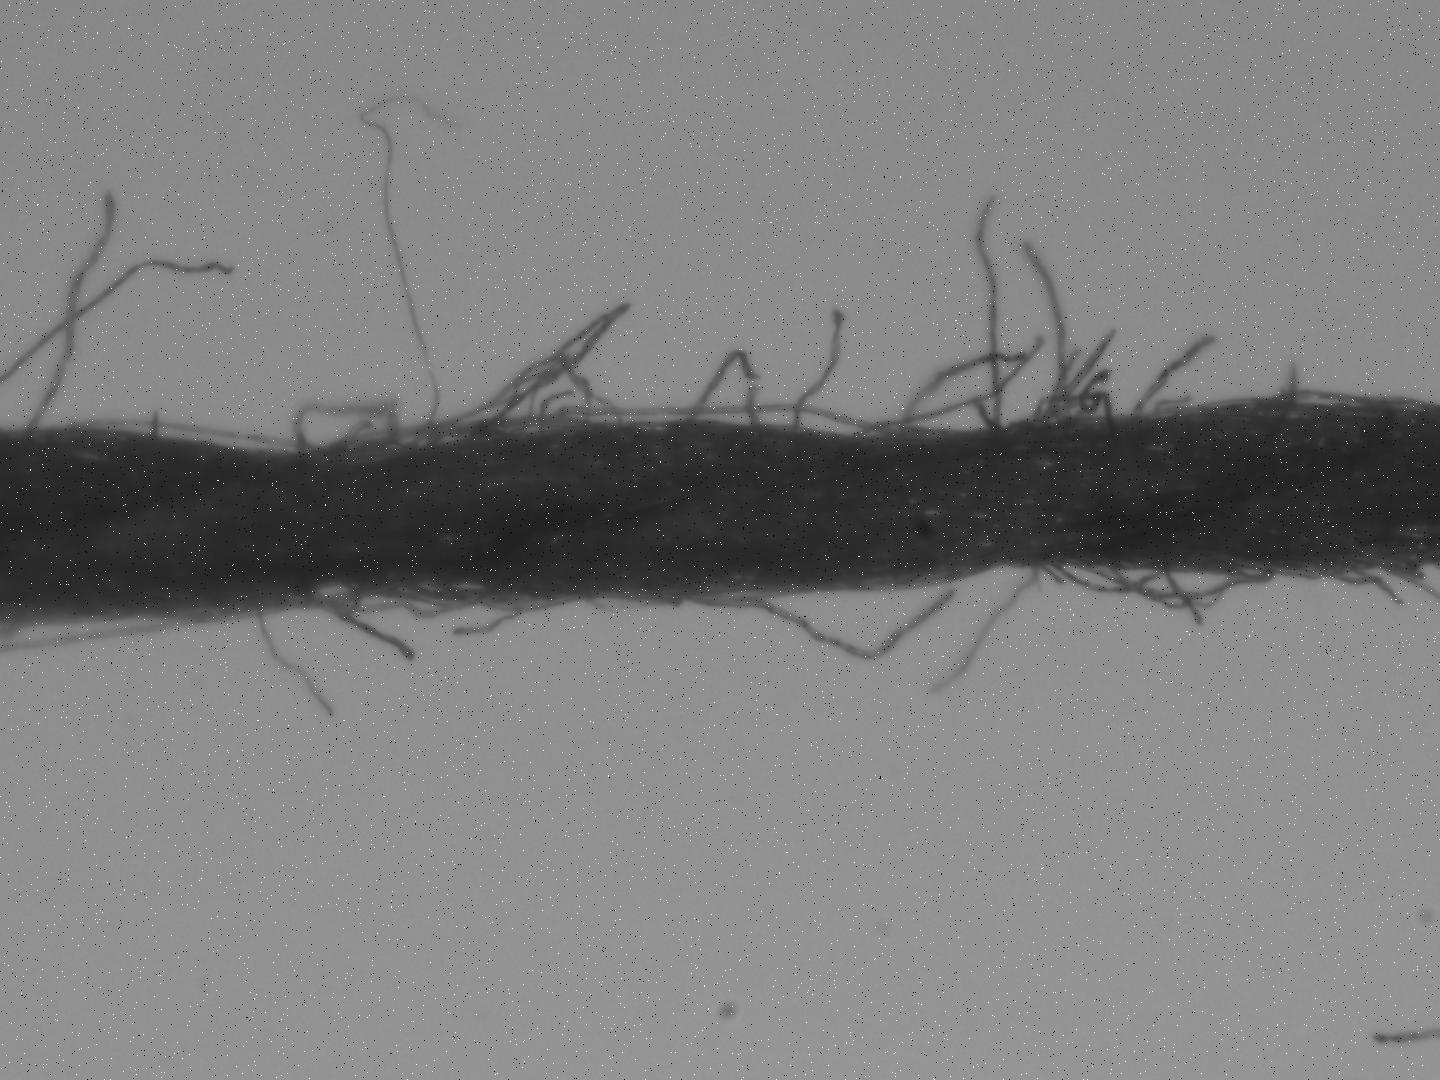loop_fiber: (438, 357, 616, 432), (557, 404, 873, 432), (1118, 563, 1273, 601), (302, 402, 398, 457), (1263, 383, 1384, 410), (1049, 565, 1164, 590), (396, 583, 491, 605), (1042, 393, 1111, 421), (299, 583, 361, 613)
protruding_fiber: (26, 189, 112, 434), (703, 583, 958, 658), (1127, 337, 1217, 417), (974, 197, 1002, 429), (312, 596, 417, 656), (793, 314, 842, 432)
